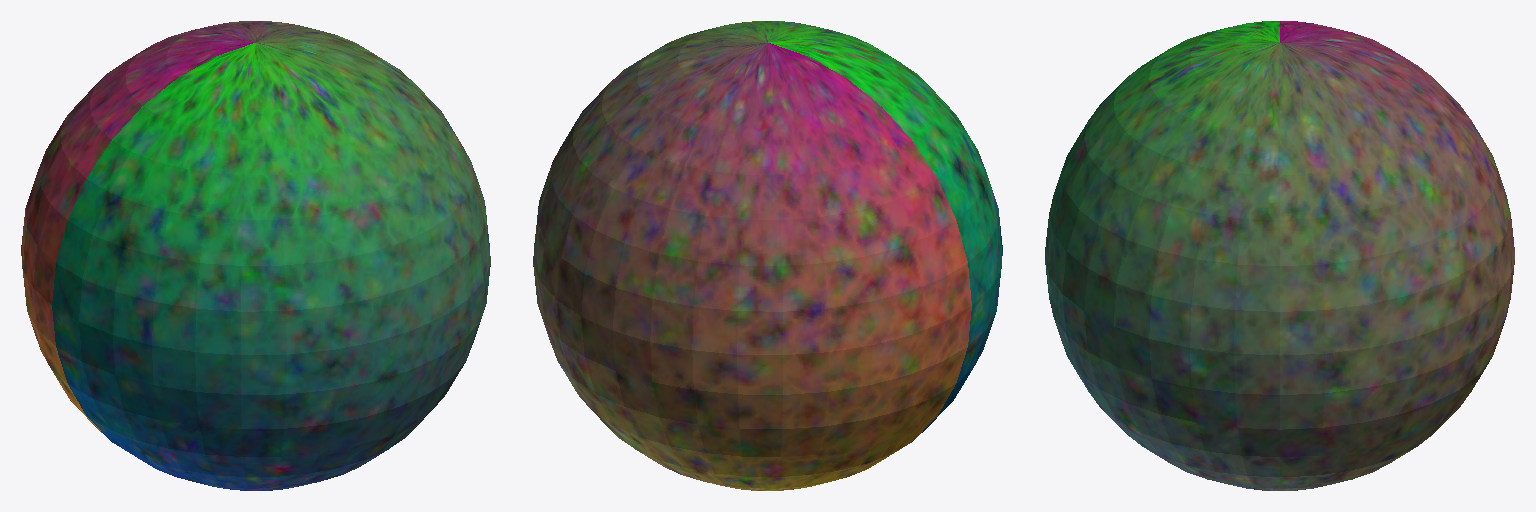
3 renders of one model, left to right at view 1: azimuth 30°, elevation 25°; view 2: azimuth 150°, elevation 25°; view 3: azimuth 270°, elevation 25°, orthographic.
Parts seen in each view (by area): view 1: Sphere; view 2: Sphere; view 3: Sphere.
Part boxes in pixels (x1,y1,x2,y2): Sphere: (21,21,490,490); Sphere: (533,21,1002,490); Sphere: (1045,21,1514,490).
Bounding box in the file's own units: 2 × 2 × 2.
1 materials, 1 textured.